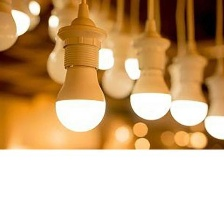light_bulb: (48, 49, 110, 138), (41, 18, 86, 88), (125, 61, 173, 124), (165, 74, 208, 127), (98, 42, 135, 102), (200, 81, 223, 141), (0, 0, 20, 58)
